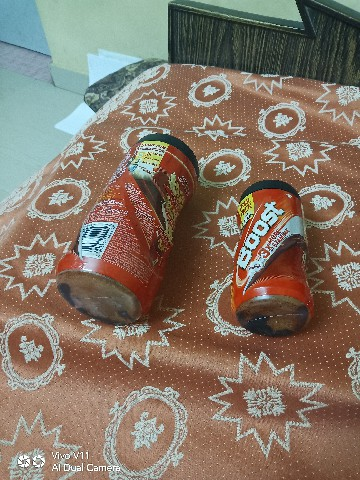boost big: (49, 106, 198, 341)
boost small: (228, 173, 321, 340)
